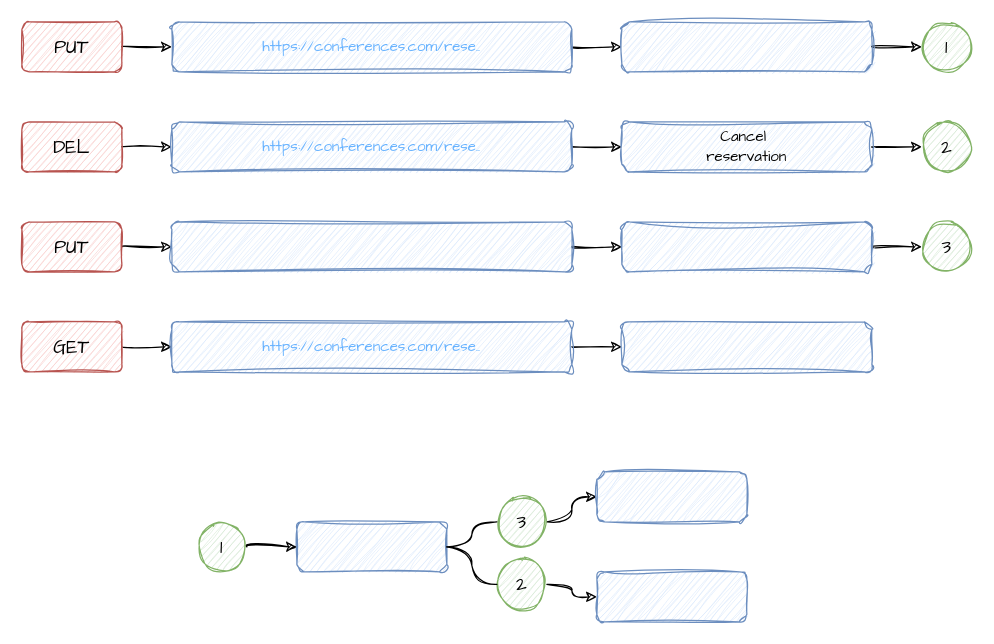
This 994x644 diagram has some shape labels left out. The box of each missing label's shape, as (x1, y1, x2, y2) in pixels:
cancelled: (596, 571, 747, 622)
completed: (596, 471, 747, 522)
Create reservation: (621, 21, 872, 72)
Get current status of reservation: (621, 321, 872, 372)
https://conferences.com/paym..: (171, 221, 572, 272)
payment expected: (296, 521, 447, 572)
Process payment: (621, 221, 872, 272)
